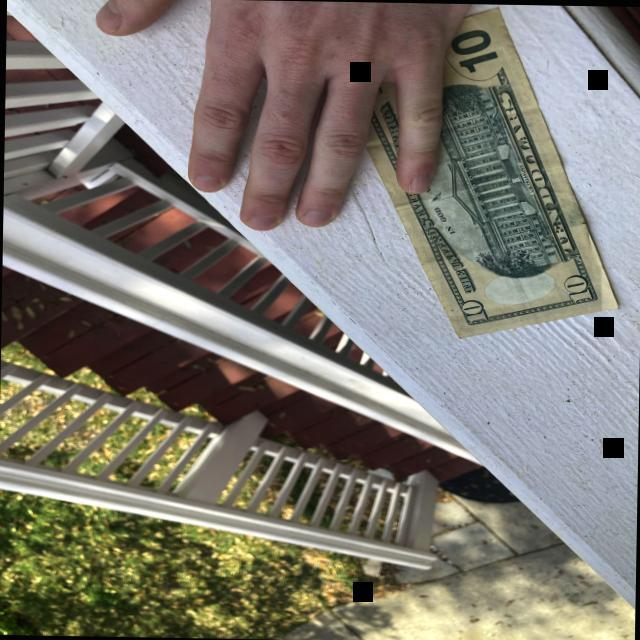ten: (325, 5, 615, 337)
